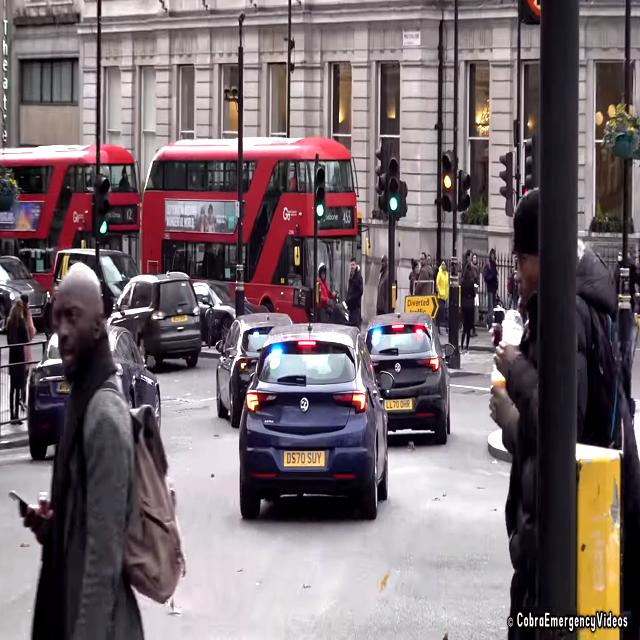emergency-vehicles: (225, 315, 389, 523), (357, 308, 453, 446)
